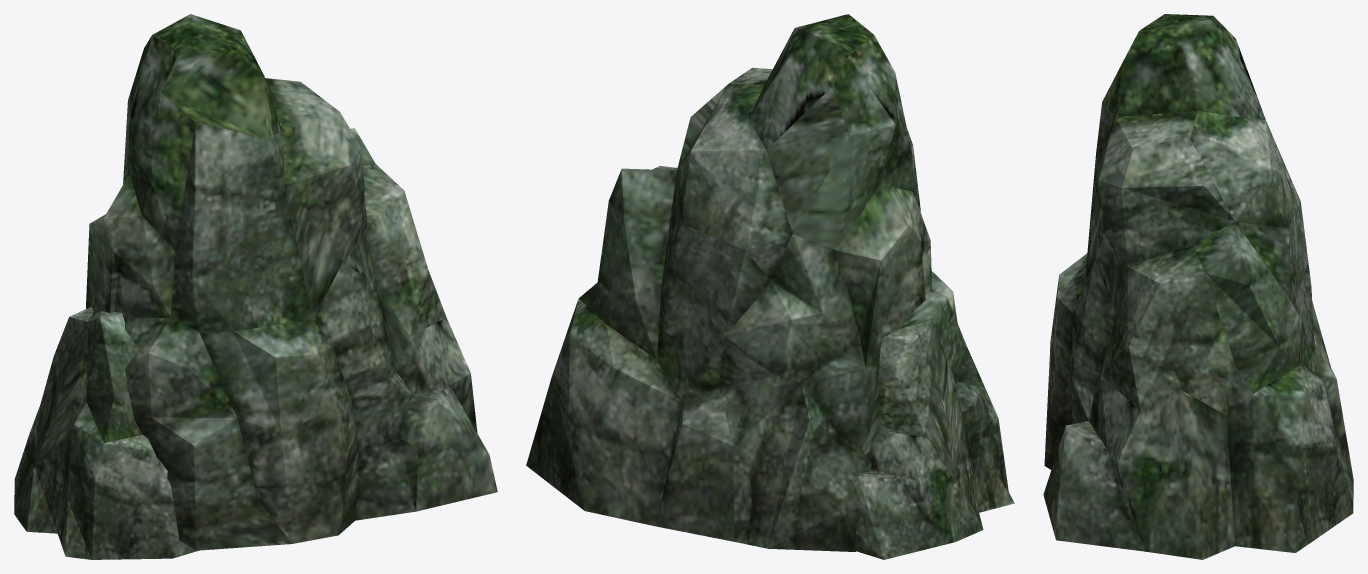
File: lianqizong_shitou07b_st.FBX
3 views of the same model, side by side, from view 1: azimuth 30°, elevation 25°; view 2: azimuth 150°, elevation 25°; view 3: azimuth 270°, elevation 25° (orthographic). The views are drawn at different scales.
Visible parts, largest first — view 1: lianqizong_shitou07b_st_A; view 2: lianqizong_shitou07b_st_A; view 3: lianqizong_shitou07b_st_A.
Part boxes in pixels (box(x1,y1,x2,y2)): lianqizong_shitou07b_st_A: box(14, 14, 497, 559); lianqizong_shitou07b_st_A: box(526, 14, 1014, 559); lianqizong_shitou07b_st_A: box(1043, 14, 1353, 559).
Bounding box in the file's own units: 509 × 529 × 349.
